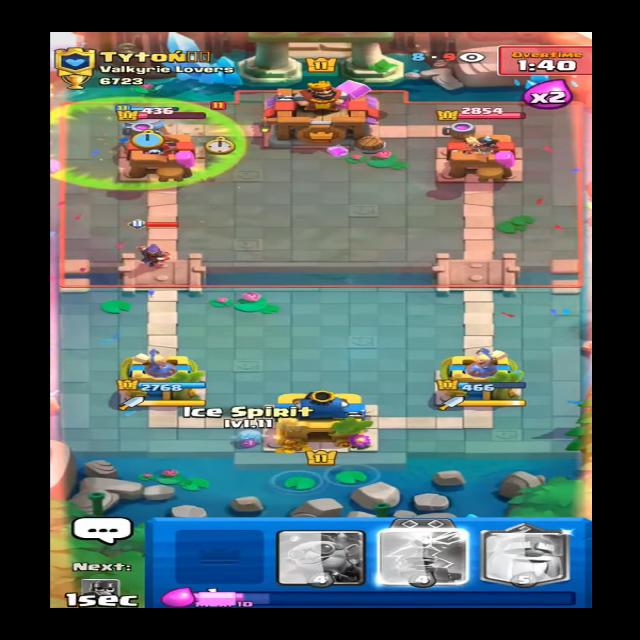evo-wizard: (120, 221, 196, 267)
